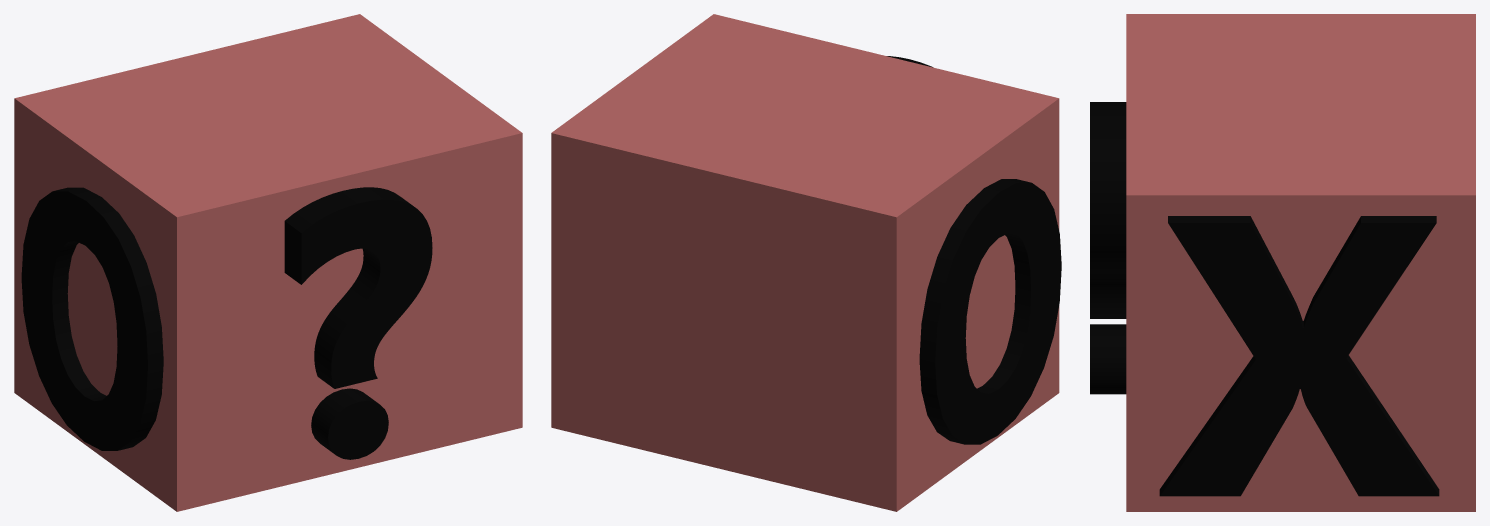
3 views of the same model, side by side, from view 1: azimuth 30°, elevation 25°; view 2: azimuth 150°, elevation 25°; view 3: azimuth 270°, elevation 25° (orthographic). The views are drawn at different scales.
Visible parts, largest first — view 1: root, node_id89, node_id81; view 2: root, node_id89; view 3: root, node_id111, node_id81.
Part boxes in pixels (left/top/right/bottom): root: left=14, top=14, right=522, bottom=511; node_id89: left=21, top=187, right=163, bottom=450; node_id81: left=284, top=187, right=432, bottom=459; root: left=551, top=14, right=1059, bottom=511; node_id89: left=919, top=179, right=1061, bottom=444; root: left=1126, top=14, right=1475, bottom=511; node_id111: left=1159, top=216, right=1439, bottom=496; node_id81: left=1090, top=102, right=1126, bottom=394.
Bounding box in the file's own units: 1.06 × 0.7939 × 0.8765.
Materials: 4 (1 with a texture image).
